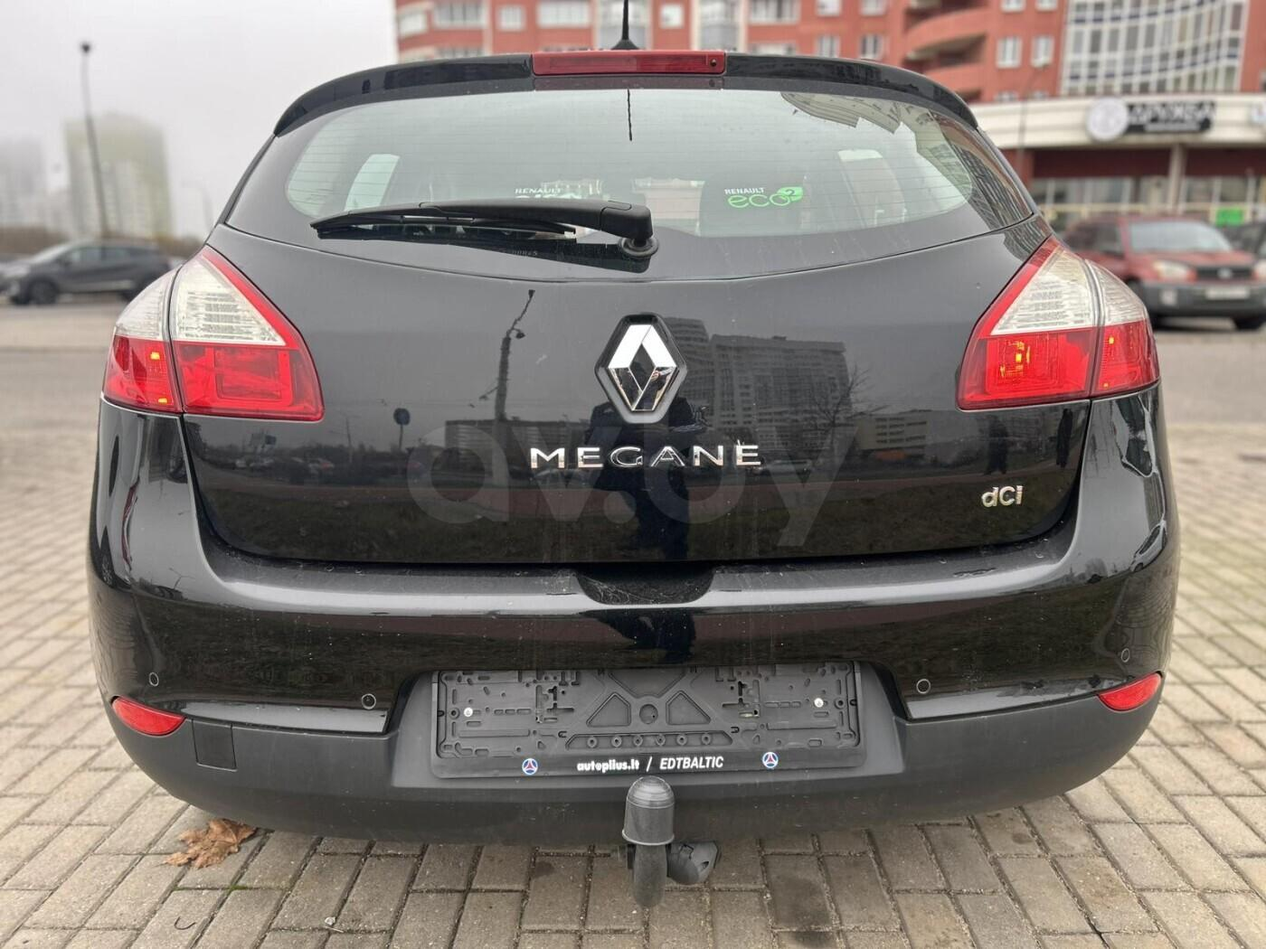Megane_2008-2014: (75, 49, 1183, 861)
